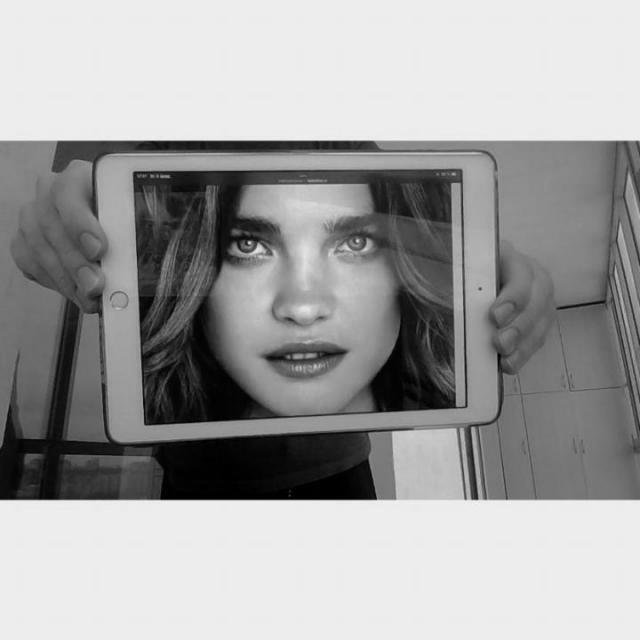fake: (89, 143, 511, 450)
